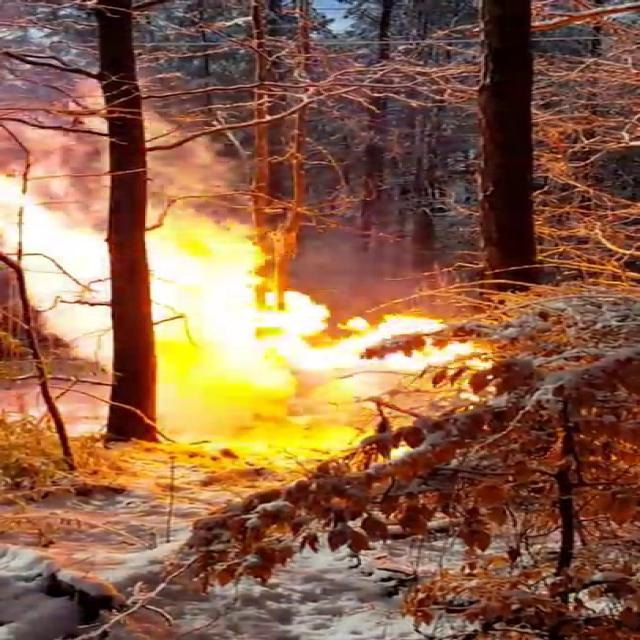Fire: (0, 158, 504, 439)
